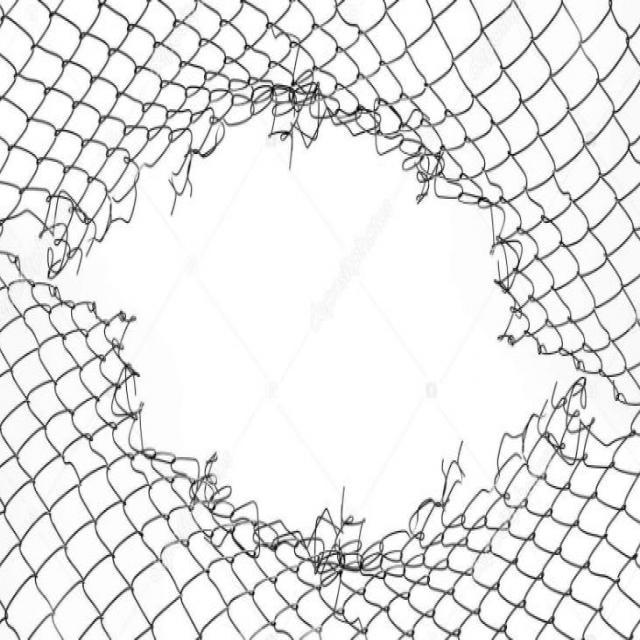fence line: (60, 77, 607, 552)
